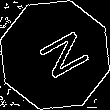N_SW: (23, 25, 87, 85)
